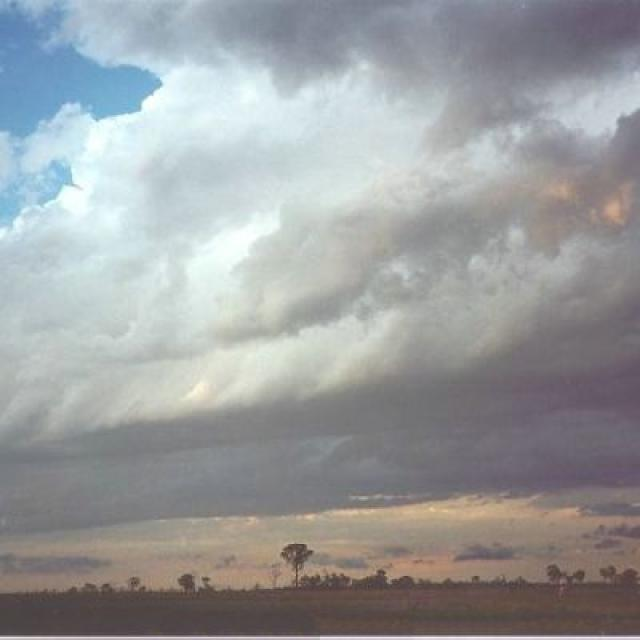St: (2, 1, 640, 462)
